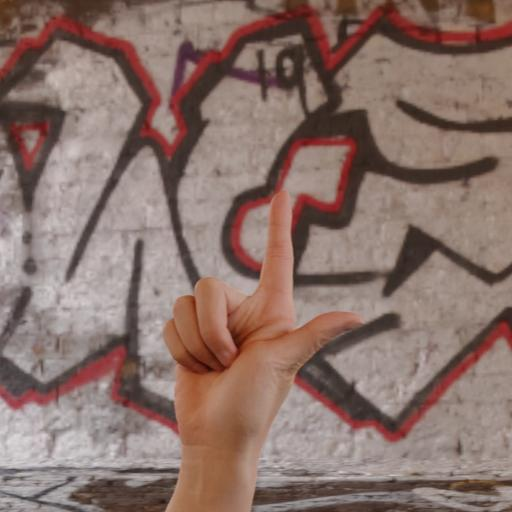L: (146, 182, 371, 455)
